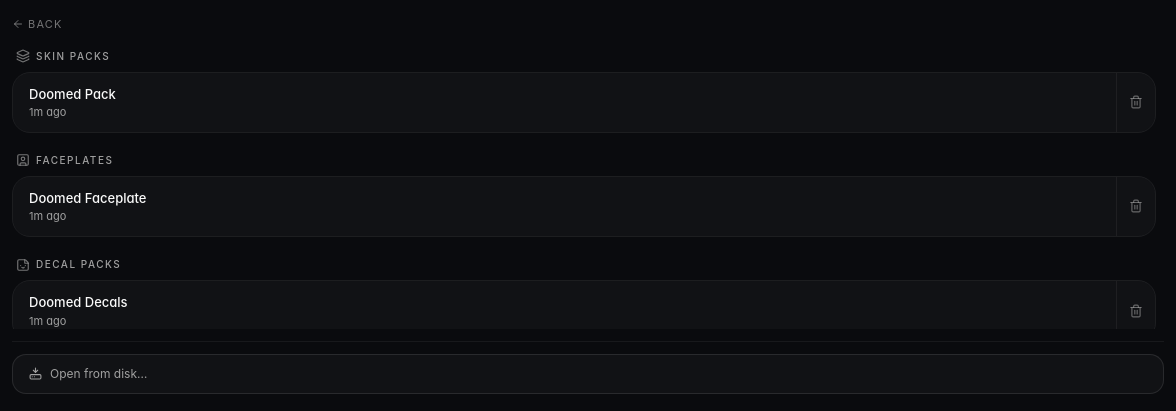
Scenario: SavedProjectsList › delete affordance › cancel button reverts the row to its default state
Click the button named "Delete Doomed Pack": (1136, 102) [1116, 72, 1155, 132]
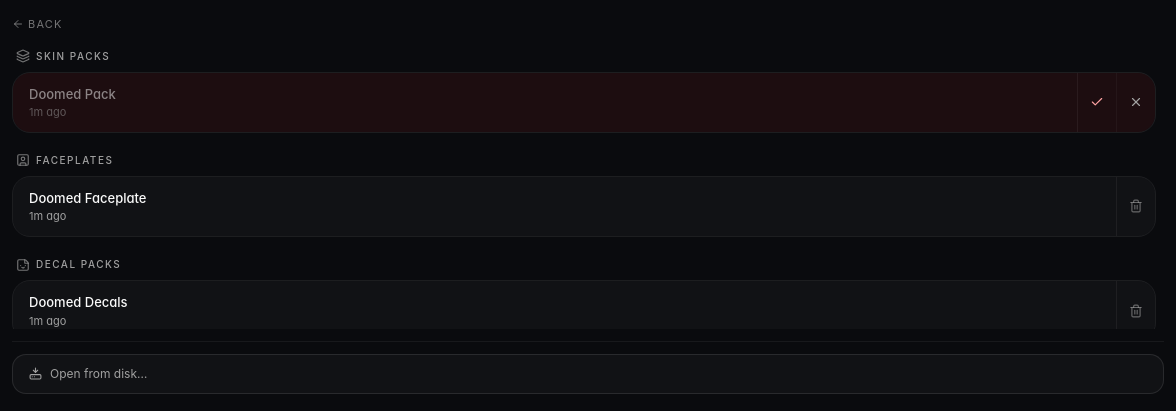
Click the button with test id "cancel-delete": (1136, 102) [1116, 72, 1155, 132]
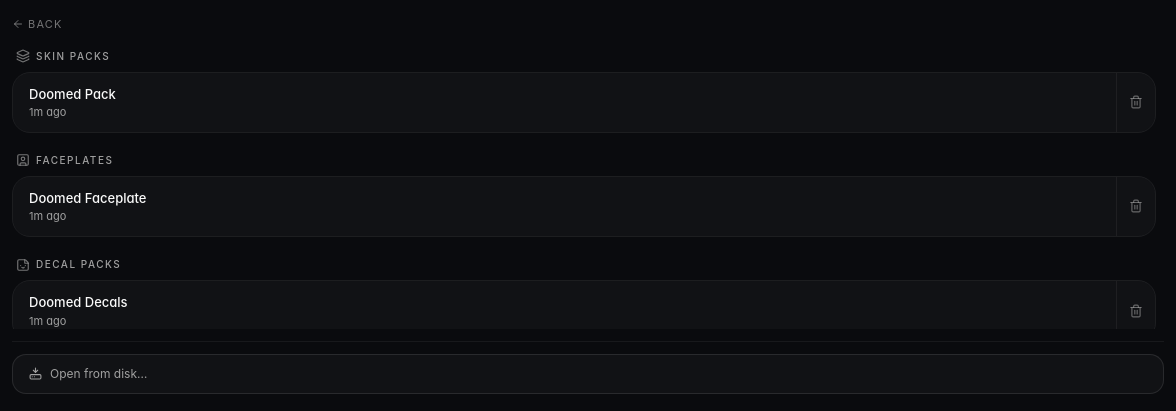
Now no buttons with test id "confirm-delete" are shown
Now the number of buttons with test id "arm-delete" is 3, box [1116, 72, 1155, 132]; [1116, 177, 1155, 236]; [1116, 281, 1155, 328]
